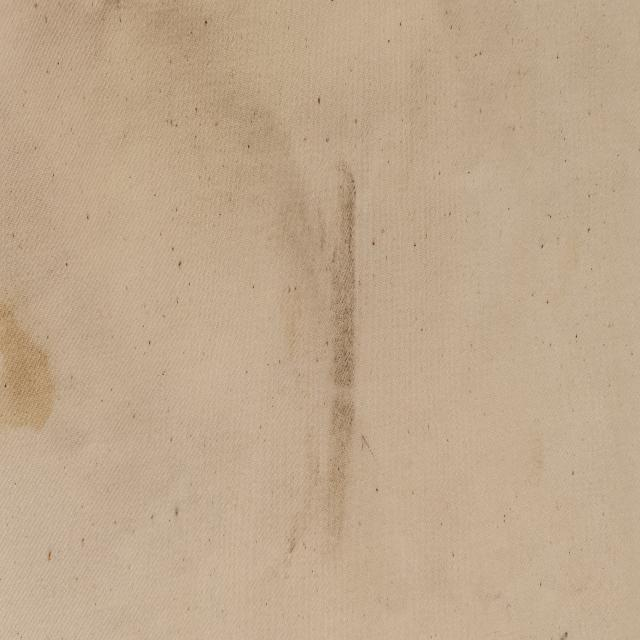taaaches: (272, 122, 396, 568), (1, 275, 66, 484)
